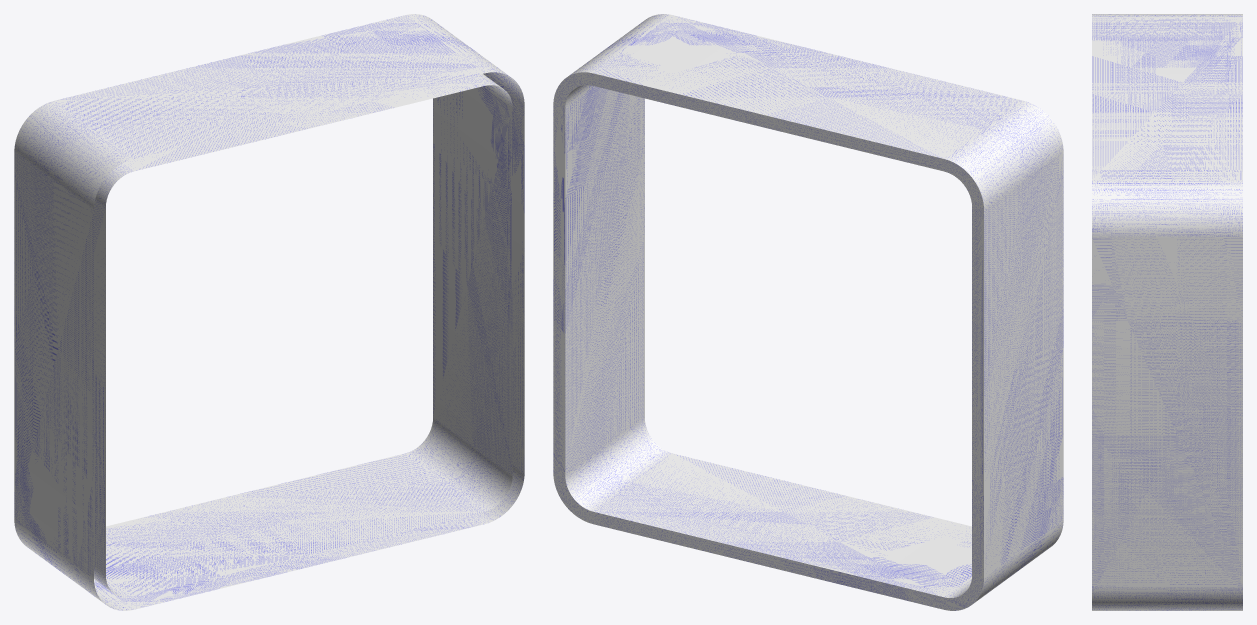
The model's file is original-16.obj.
3 renders of one model, left to right at view 1: azimuth 30°, elevation 25°; view 2: azimuth 150°, elevation 25°; view 3: azimuth 270°, elevation 25°, orthographic. The views are drawn at different scales.
Parts seen in each view (by area): view 1: mesh29/mesh29-geometry#mesh29-geometry; view 2: mesh29/mesh29-geometry#mesh29-geometry; view 3: mesh29/mesh29-geometry#mesh29-geometry.
Part boxes in pixels (<box>): mesh29/mesh29-geometry#mesh29-geometry: <box>14,14,524,610</box>; mesh29/mesh29-geometry#mesh29-geometry: <box>553,14,1063,610</box>; mesh29/mesh29-geometry#mesh29-geometry: <box>1092,14,1242,610</box>.
Bounding box in the file's own units: 1.08 × 1.08 × 0.3457.
